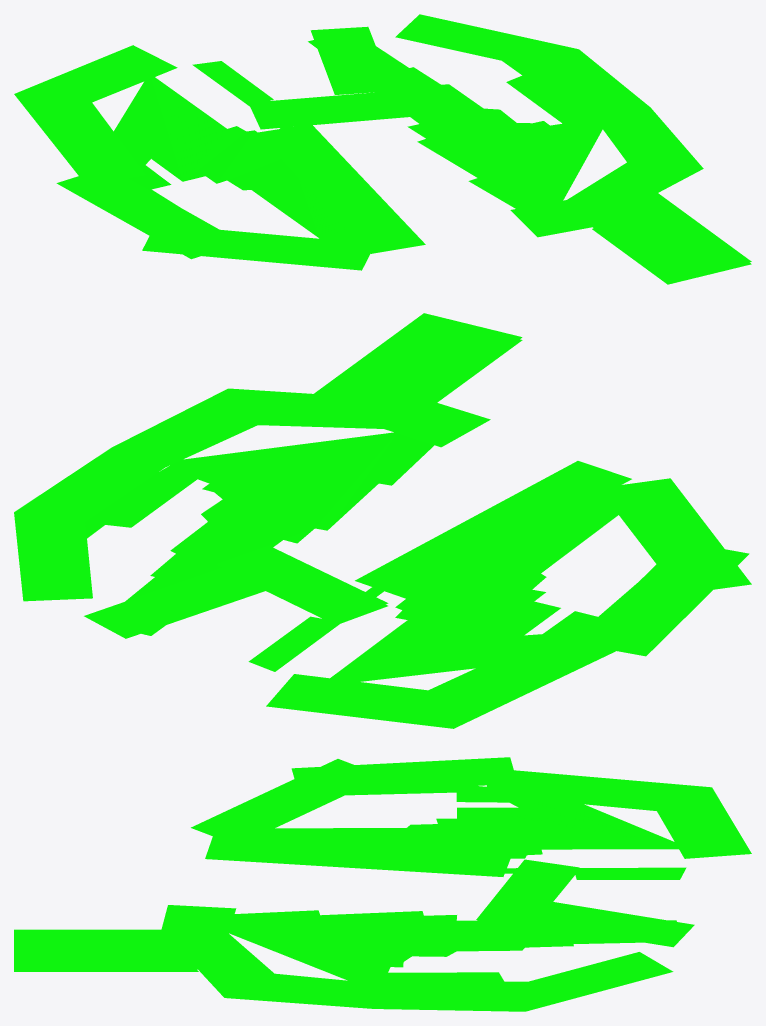
File: s02b_nc2-floor.glb
The picture shows the model from 3 angles, top to bottom: view 1: azimuth 30°, elevation 25°; view 2: azimuth 150°, elevation 25°; view 3: azimuth 270°, elevation 25°; orthographic projection. The views are drawn at different scales.
Parts seen in each view (by area): view 1: collision_floor-colonly; view 2: collision_floor-colonly; view 3: collision_floor-colonly.
Boxes of the visible parts, x1,y1,x2,y2 form: collision_floor-colonly: [14, 14, 751, 284]; collision_floor-colonly: [14, 313, 751, 728]; collision_floor-colonly: [14, 757, 751, 1011].
Size of the model in its own units: 37.98 by 0.2637 by 46.54.
